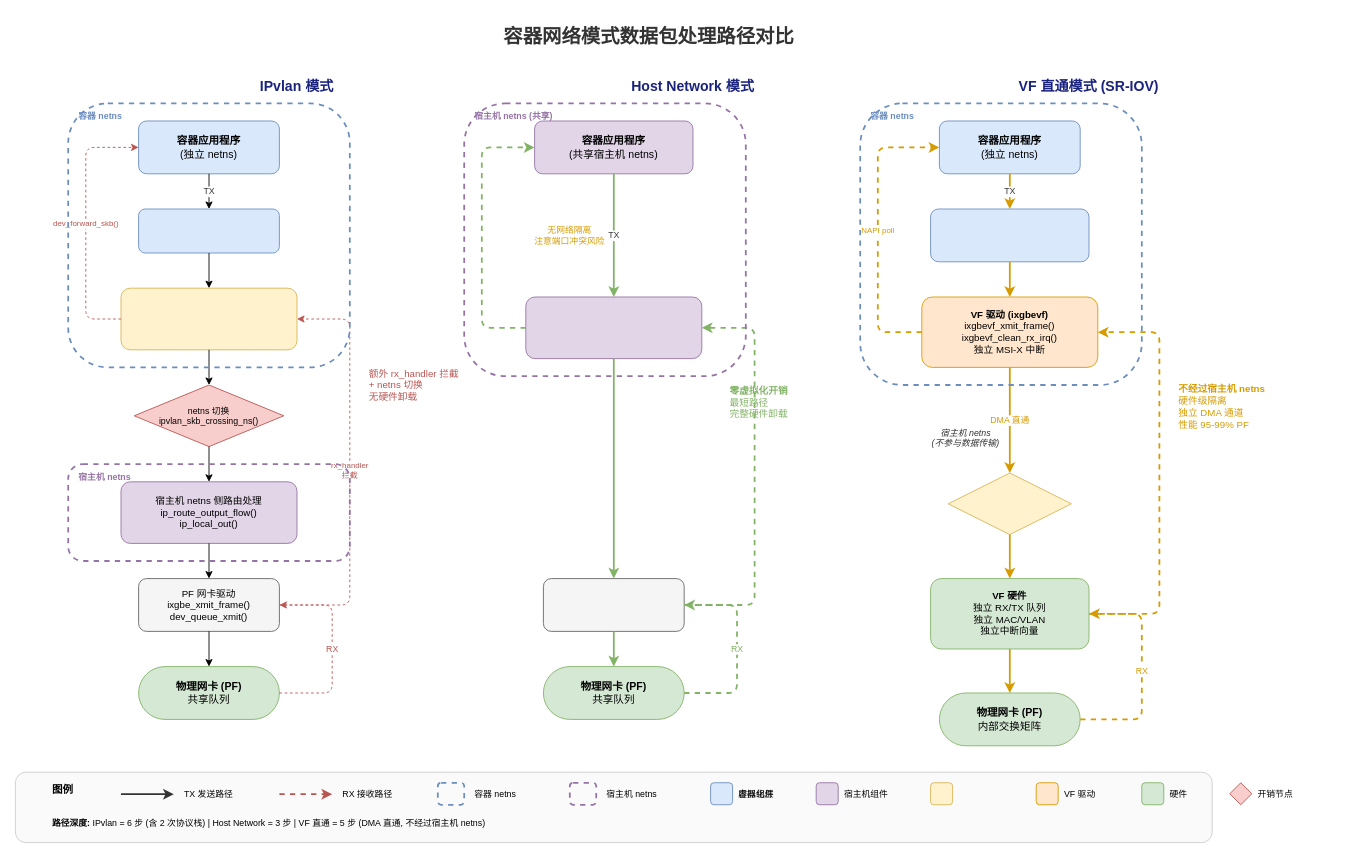
Some shapes in this 1368 by 858 pixel diagram are drawn without their labels. Each missing label, with the centre of its shape:
IOMMU DMA 地址转换: (1009,503)
IPvlan 虚拟网卡 ipvlan_start_xmit() ipvlan_handle_frame(): (208,318)
PF 网卡驱动 ndo_start_xmit() netif_receive_skb(): (613,604)
容器 TCP/IP 协议栈 (仅 1 次遍历) 完整硬件卸载: (1009,235)
容器 TCP/IP 协议栈 (第 1 次遍历): (208,230)
宿主机 TCP/IP 协议栈 (仅 1 次遍历) 完整 TSO/GSO/Checksum: (613,327)
